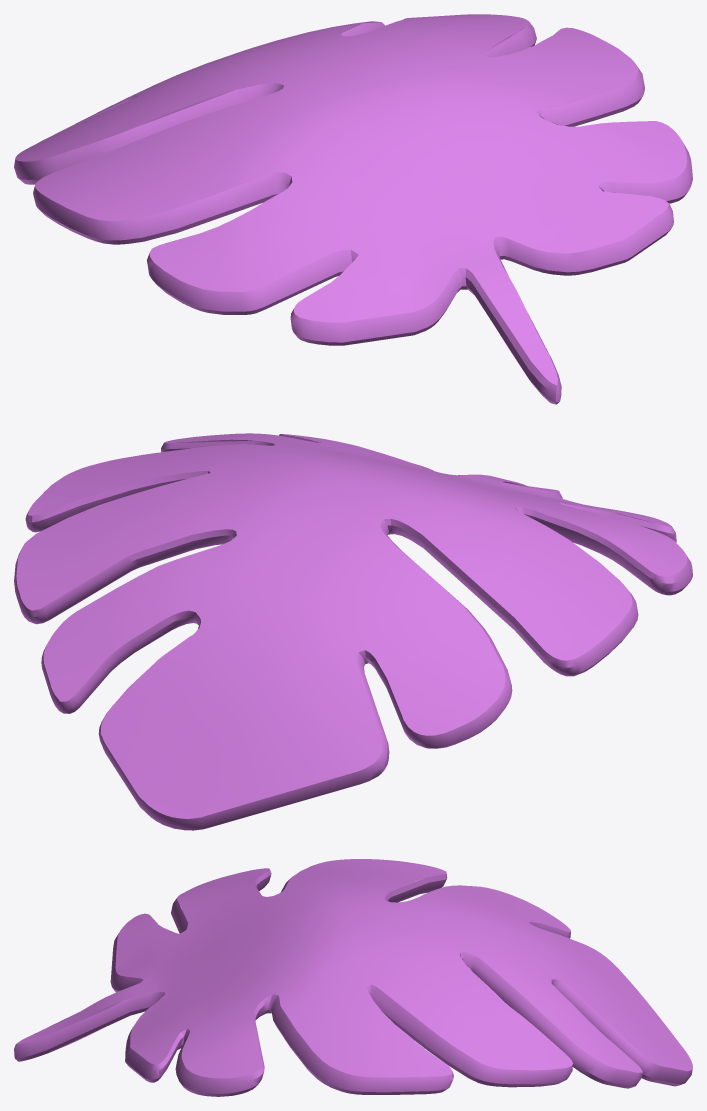
The model's file is WanderLeafRoundV3.fbx.
3 views of the same model, one above another, from view 1: azimuth 30°, elevation 25°; view 2: azimuth 150°, elevation 25°; view 3: azimuth 270°, elevation 25° (orthographic). The views are drawn at different scales.
Visible parts, largest first — view 1: Leaf; view 2: Leaf; view 3: Leaf.
Boxes of the visible parts, box(x1,y1,x2,y2) form: Leaf: box(14, 14, 692, 404); Leaf: box(14, 433, 692, 830); Leaf: box(14, 859, 692, 1096).
Bounding box in the file's own units: 79.2 × 26.66 × 97.81.
